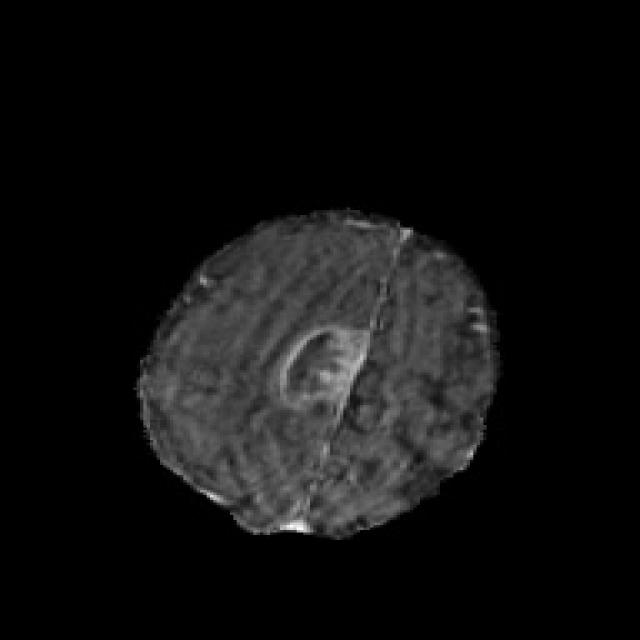positive: (272, 325, 365, 405)
